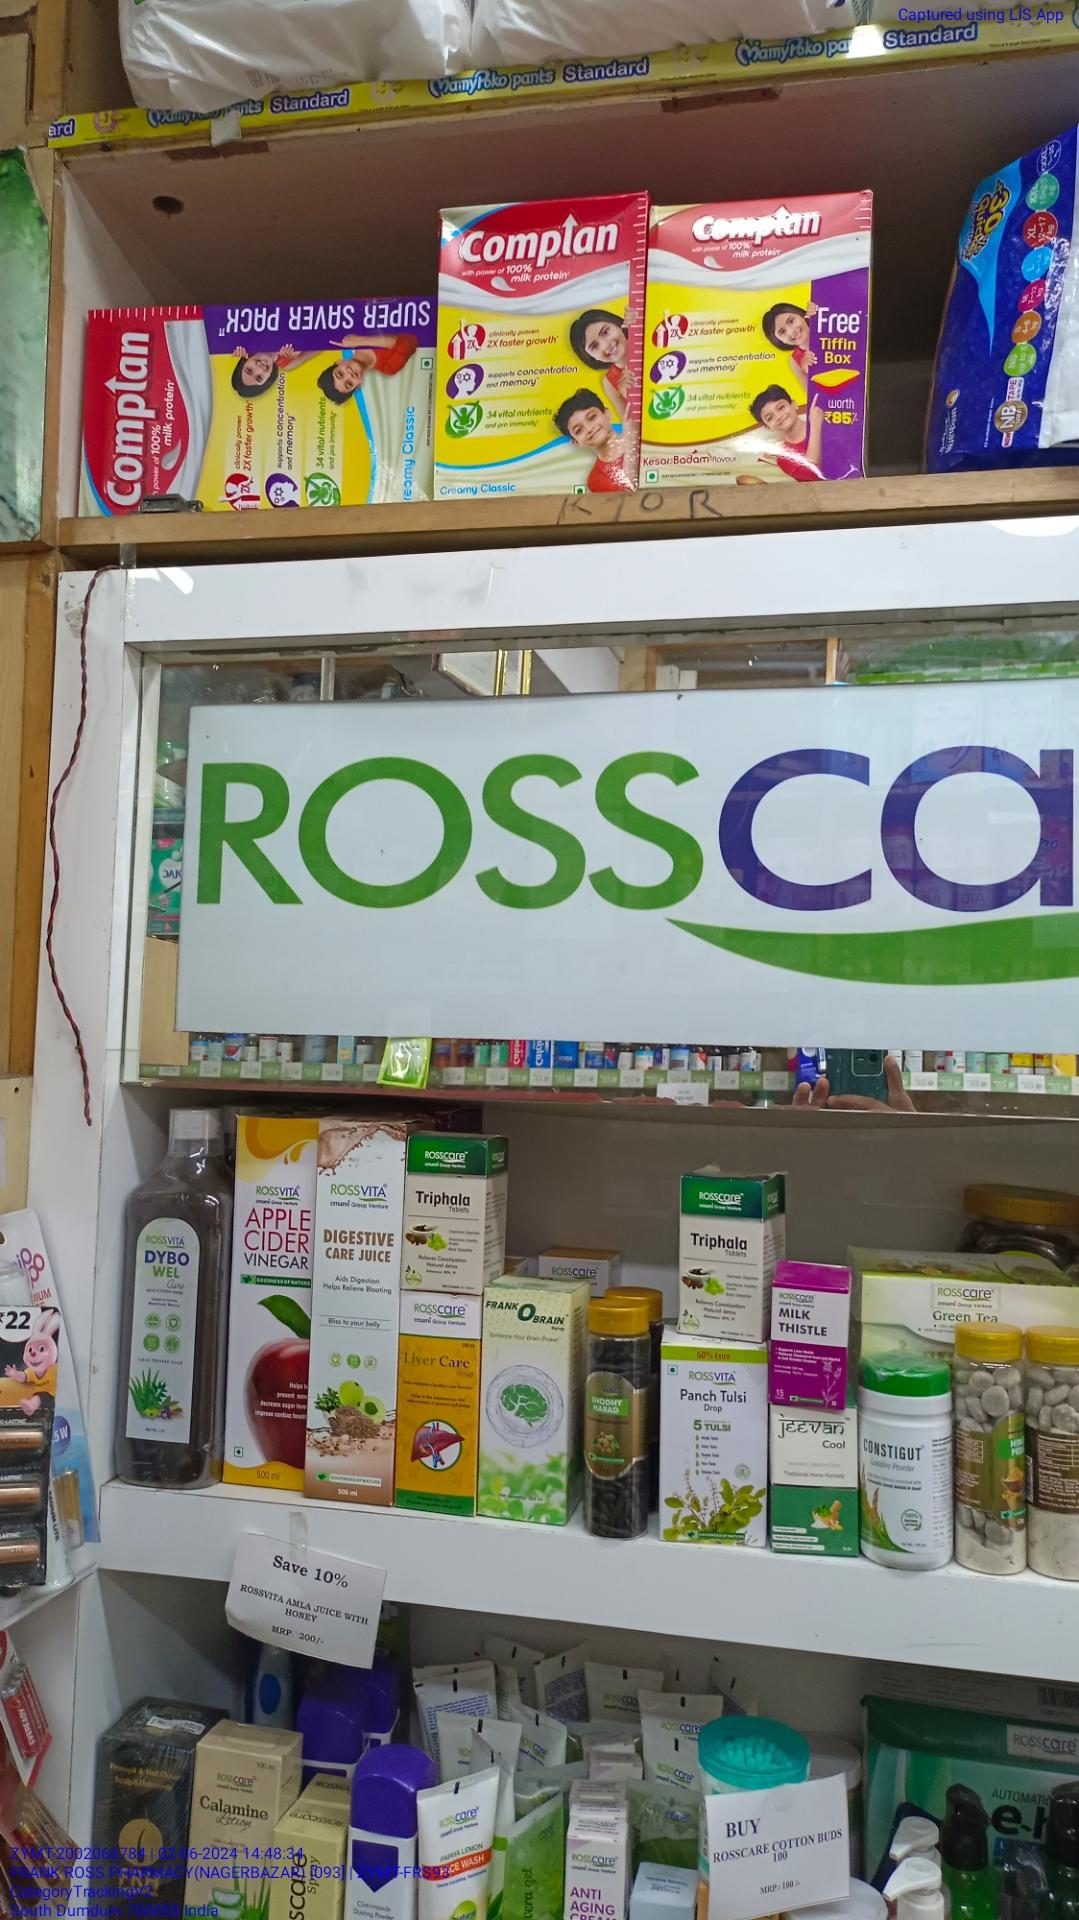COMPLAN_CREAMY_CLASSIC_500_G_PACK: (435, 203, 636, 498)
